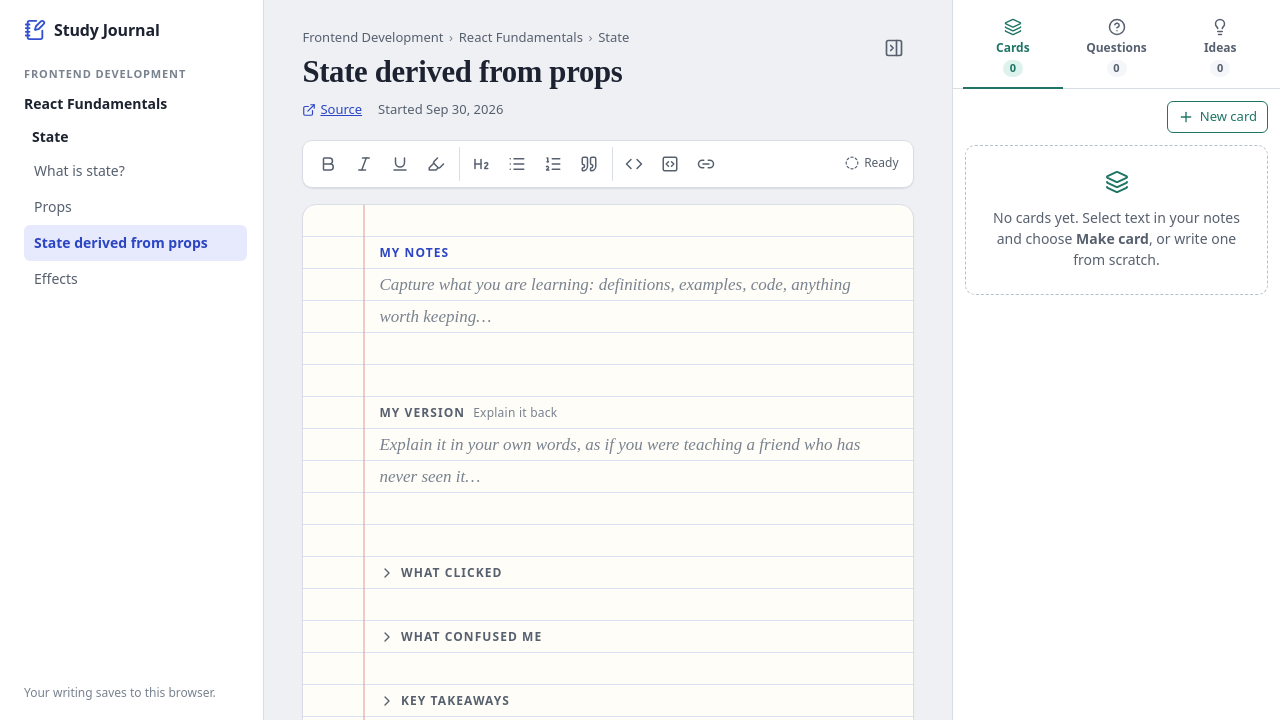
Test: JournalPage › creates a card only through the explicit form, with validation, linked to the entry
The width and height of the screenshot is (1280, 720).
Expected: the heading "State derived from props" is shown, 302,54 -> 629,90
Click the button "New card" at [1217, 117], box 1167,101 -> 1268,133
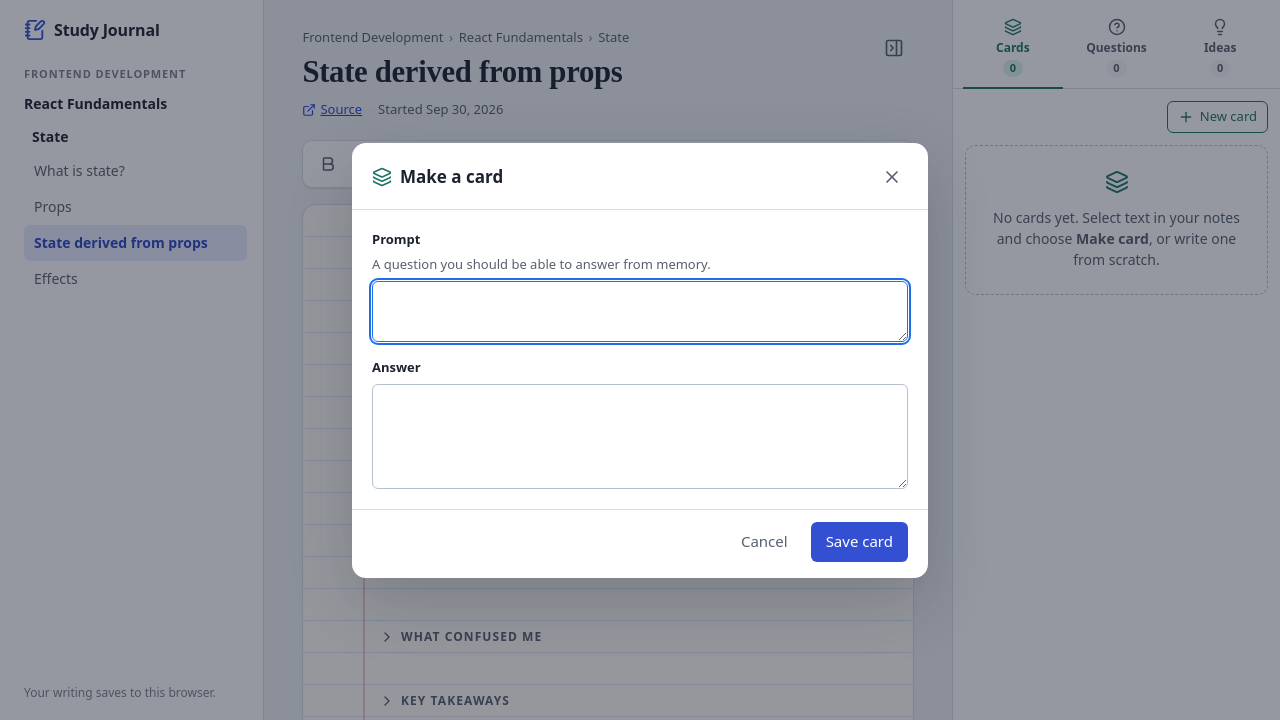
Click the button "Save card" at [859, 542], box 811,522 -> 908,562
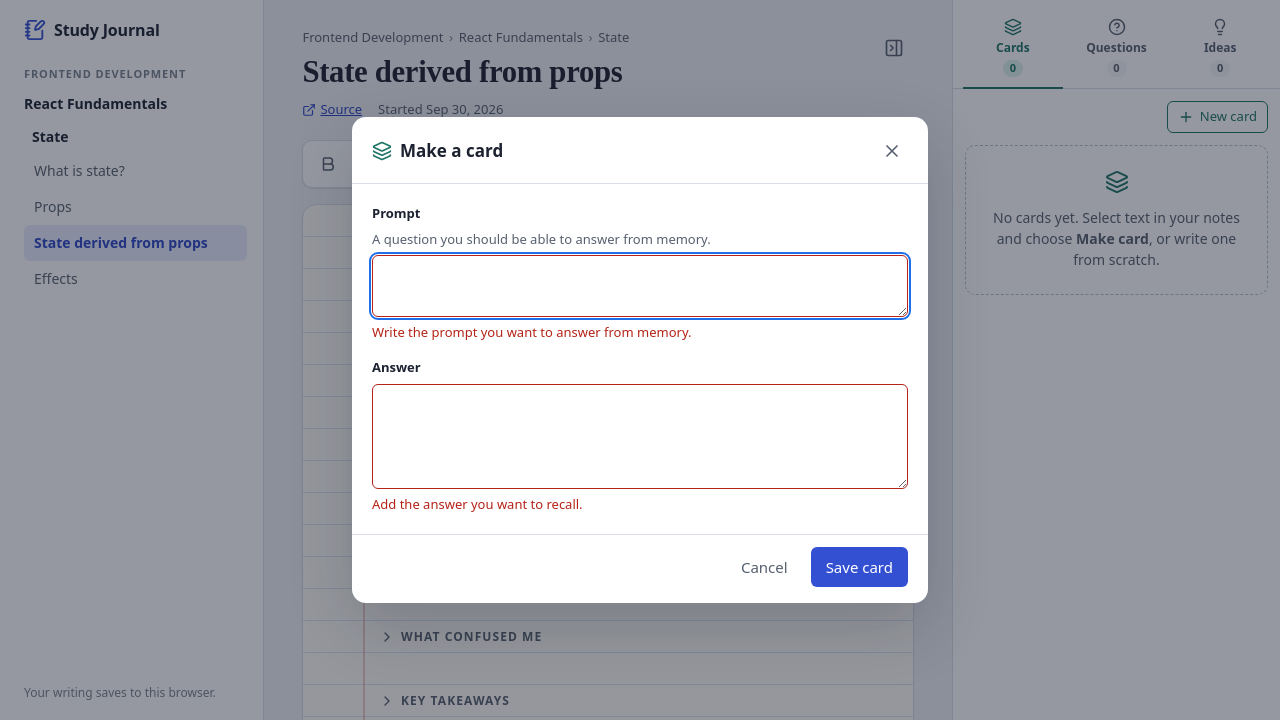
Expected: the text "Write the prompt you want to answer from memory." is shown, 372,322 -> 692,340
Expected: the text "Add the answer you want to recall." is shown, 372,494 -> 583,512
Type "  Why not mirror props in state?  " into the text box labelled "Prompt" at [640, 286], box 372,255 -> 908,316
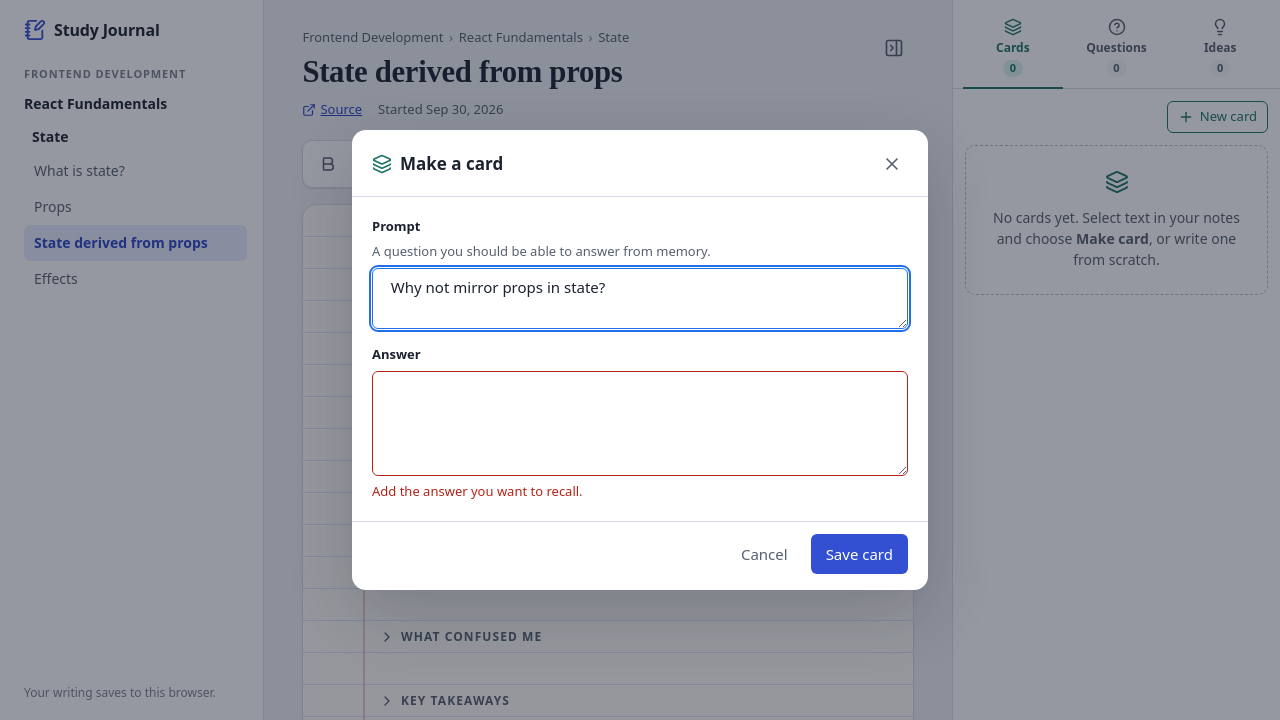
Type "The copy goes stale when the prop changes." into the text box labelled "Answer" at [640, 423], box 372,371 -> 908,476
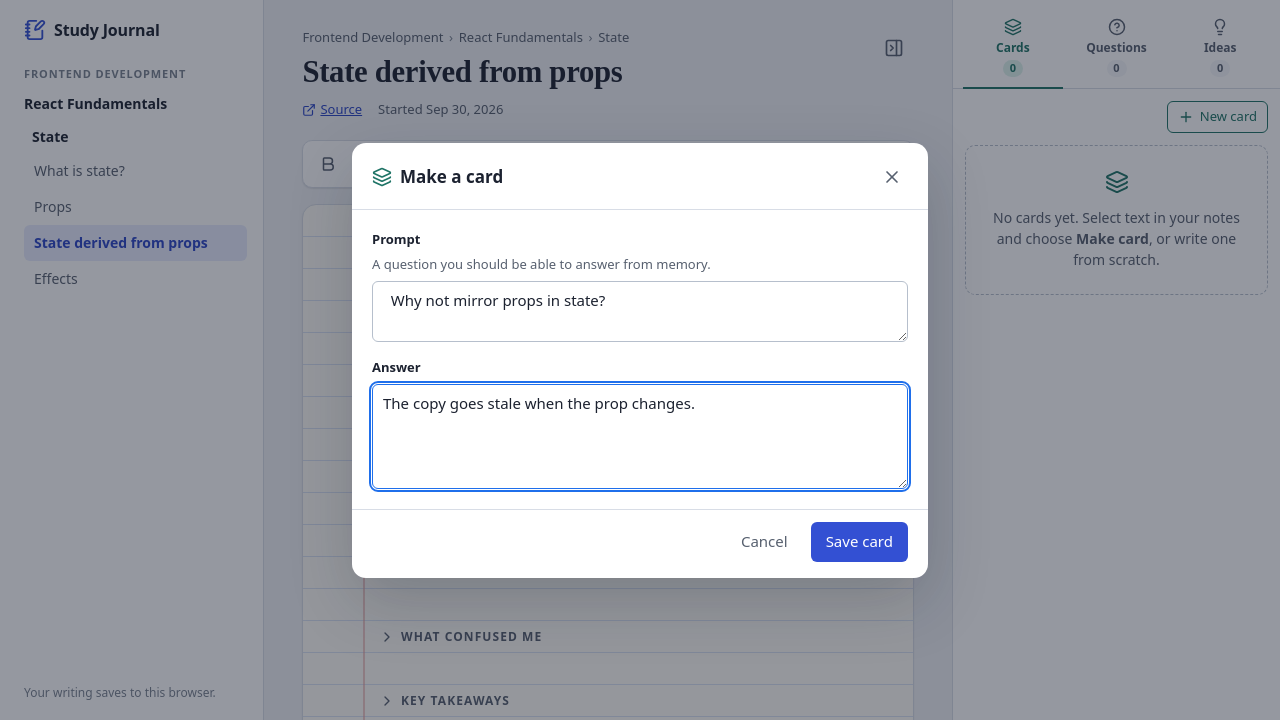
Click the button "Save card" at [859, 542], box 811,522 -> 908,562
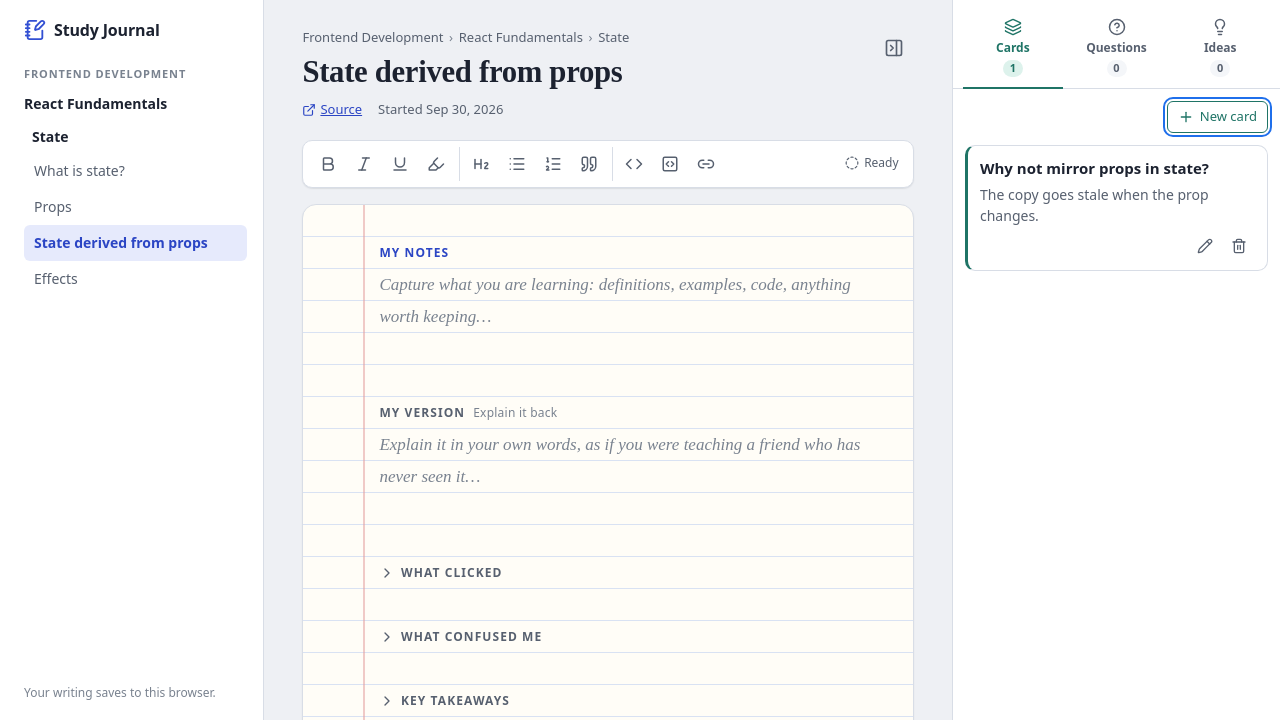
Expected: the heading "Make a card" is gone
Expected: the element named "card: Why not mirror props in state?" shows "The copy goes stale when the prop changes.", 980,185 -> 1212,225
Expected: the tab "Cards 1" is shown, 963,10 -> 1063,89
